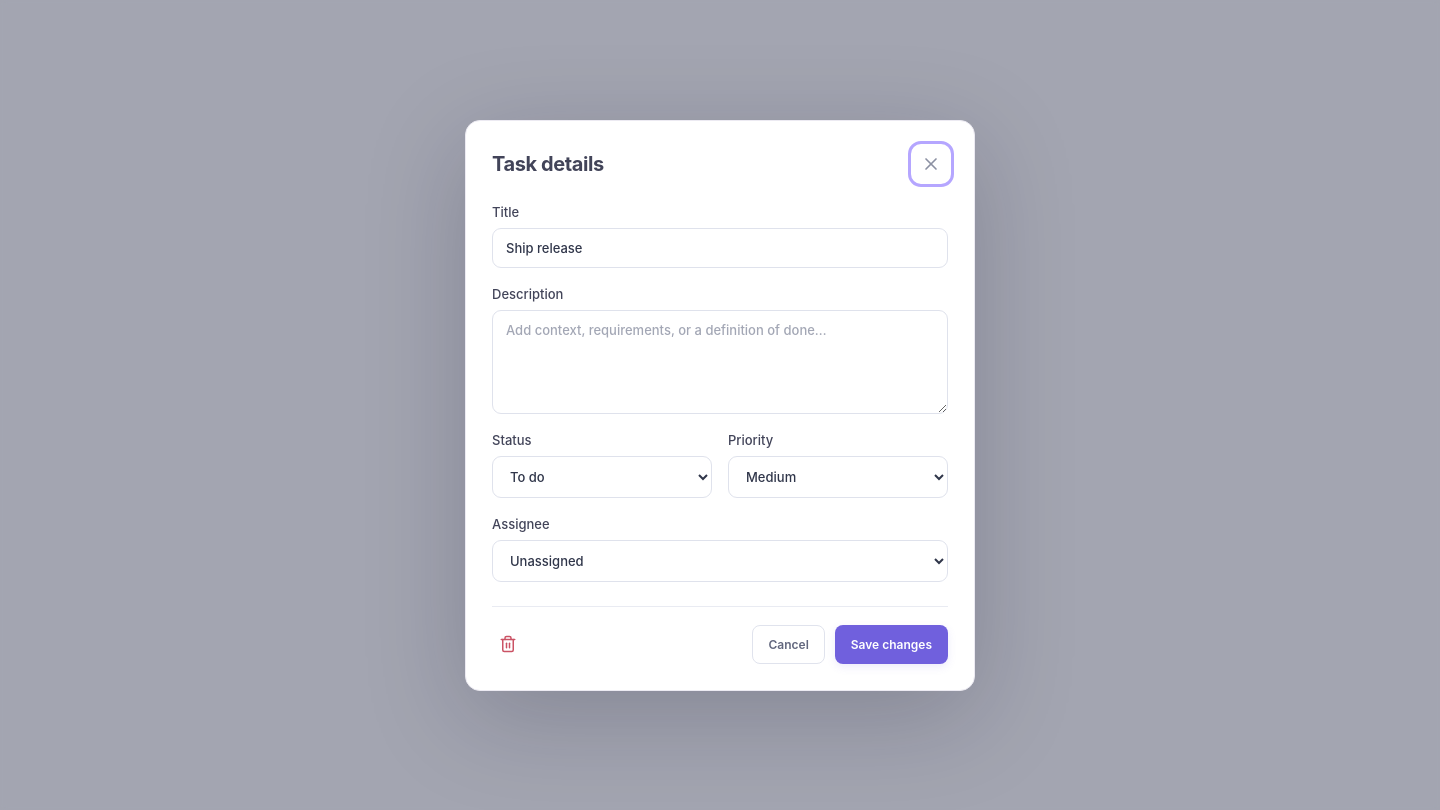
Test: Workspace boundaries › keeps an edited task open on a version conflict
Click the button "Save changes" at (891, 644), box [835, 624, 948, 664]
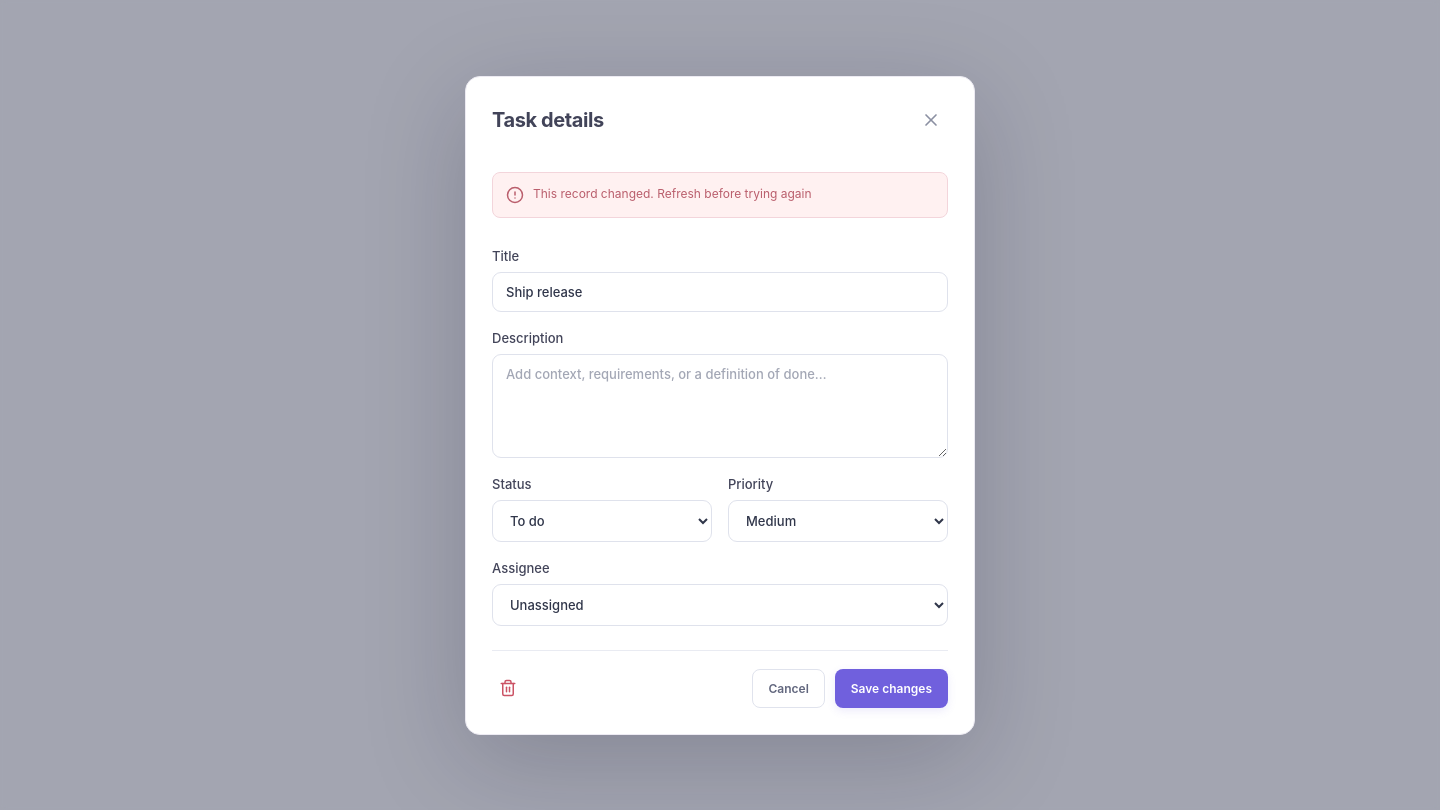
Expected: the message shows "This record changed", [533, 186, 812, 200]
